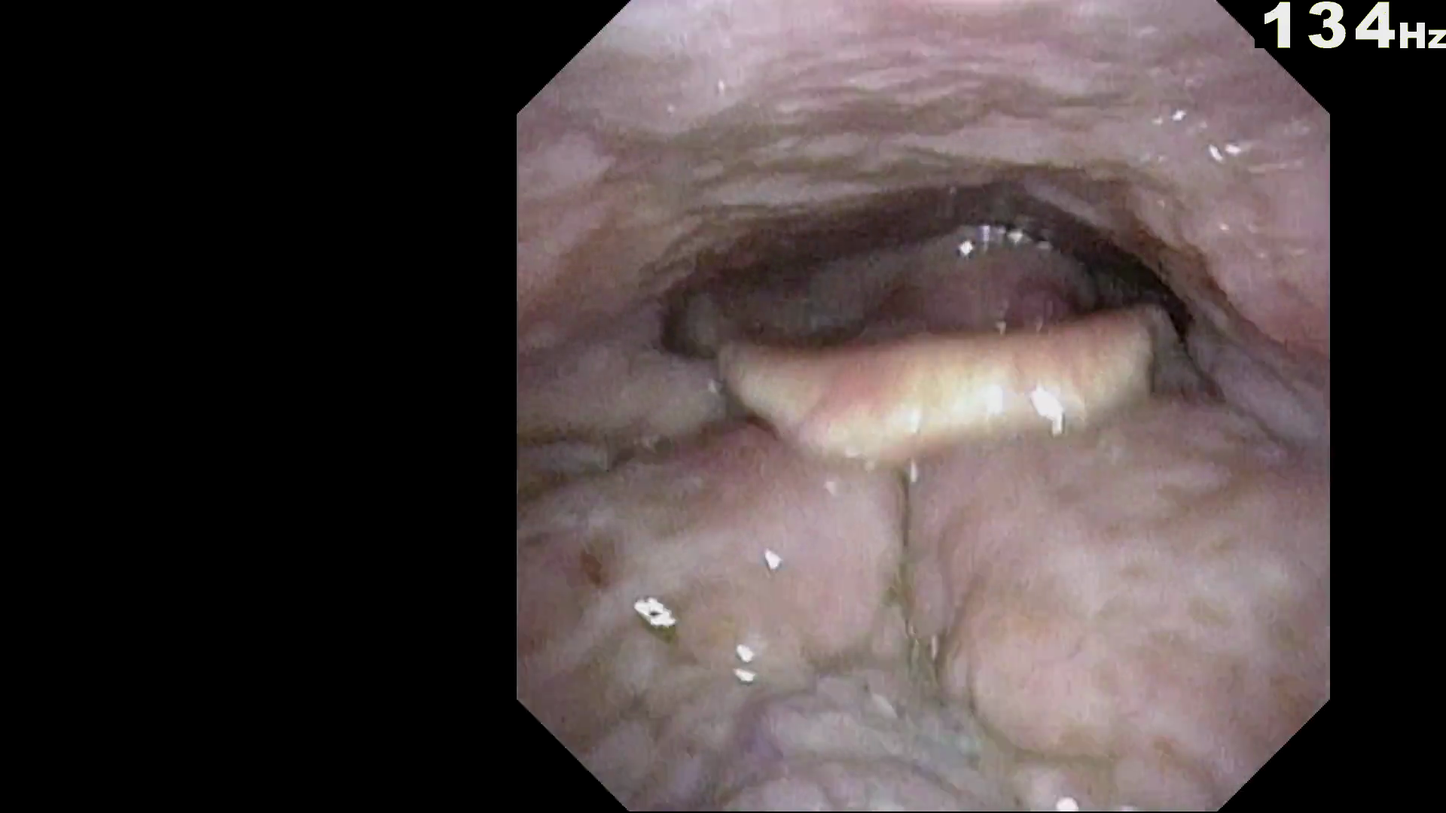epiglottis: (711, 349, 1238, 506)
